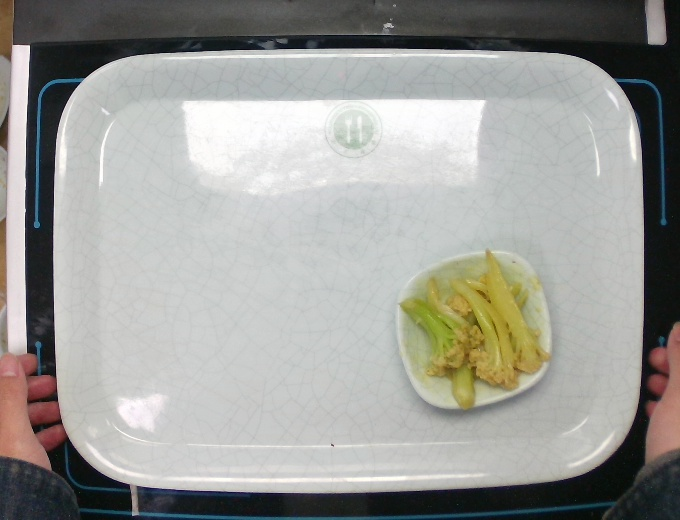JYsf-Si_Fang_Die: (391, 247, 556, 414)
